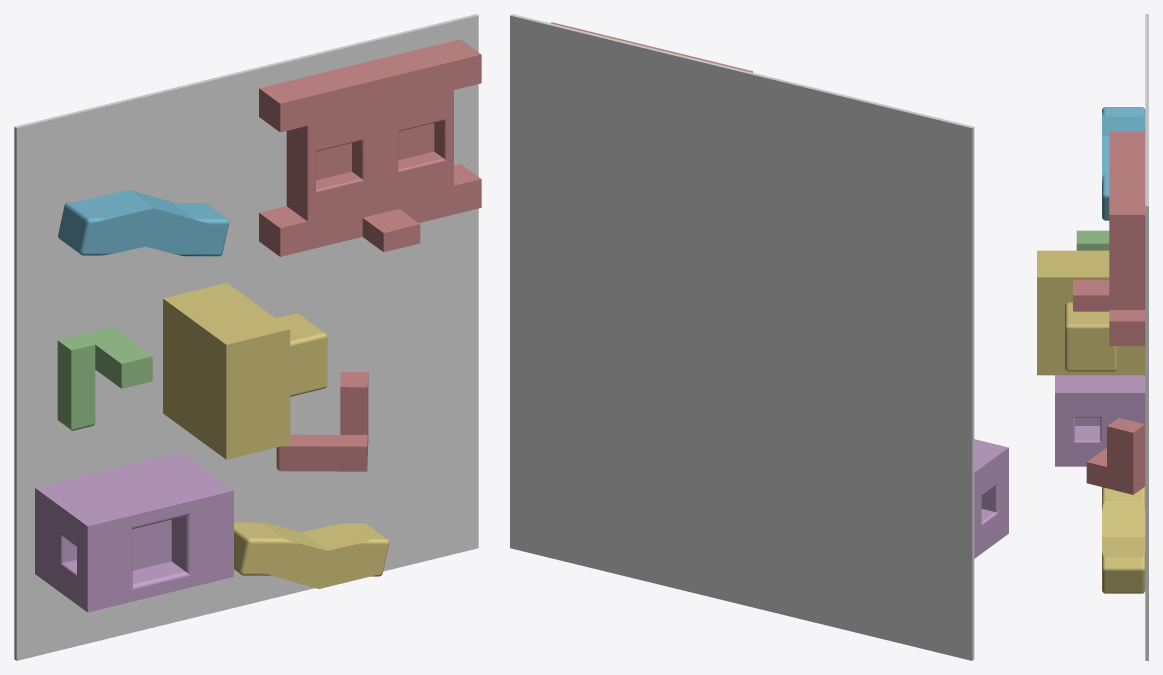
File: pickup_layout.glb
3 renders of one model, left to right at view 1: azimuth 30°, elevation 25°; view 2: azimuth 150°, elevation 25°; view 3: azimuth 270°, elevation 25°, orthographic. The views are drawn at different scales.
Parts seen in each view (by area): view 1: world, 0.obj, 3.obj, 6.obj, 2.obj, 1.obj, 4.obj, 5.obj; view 2: world, 3.obj; view 3: 6.obj, 0.obj, 3.obj, 1.obj, 5.obj, world, 2.obj, 4.obj.
Boxes of the visible parts, <box> form: world: <box>14,14,478,660</box>; 0.obj: <box>259,39,481,256</box>; 3.obj: <box>35,452,233,612</box>; 6.obj: <box>163,283,327,459</box>; 2.obj: <box>58,189,229,256</box>; 1.obj: <box>234,522,389,588</box>; 4.obj: <box>57,327,152,430</box>; 5.obj: <box>276,372,368,471</box>; world: <box>510,14,974,660</box>; 3.obj: <box>974,439,1008,558</box>; 6.obj: <box>1037,250,1145,375</box>; 0.obj: <box>1073,131,1145,345</box>; 3.obj: <box>1055,375,1145,466</box>; 1.obj: <box>1102,487,1145,593</box>; 5.obj: <box>1086,418,1145,494</box>; world: <box>1145,14,1148,660</box>; 2.obj: <box>1102,107,1145,220</box>; 4.obj: <box>1076,230,1109,250</box>.
Bounding box in the file's own units: 25.25 × 27.81 × 6.2.
